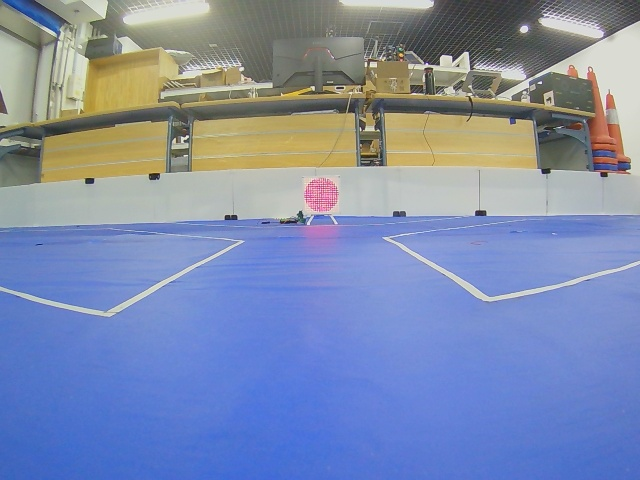red: (304, 177, 339, 214)
